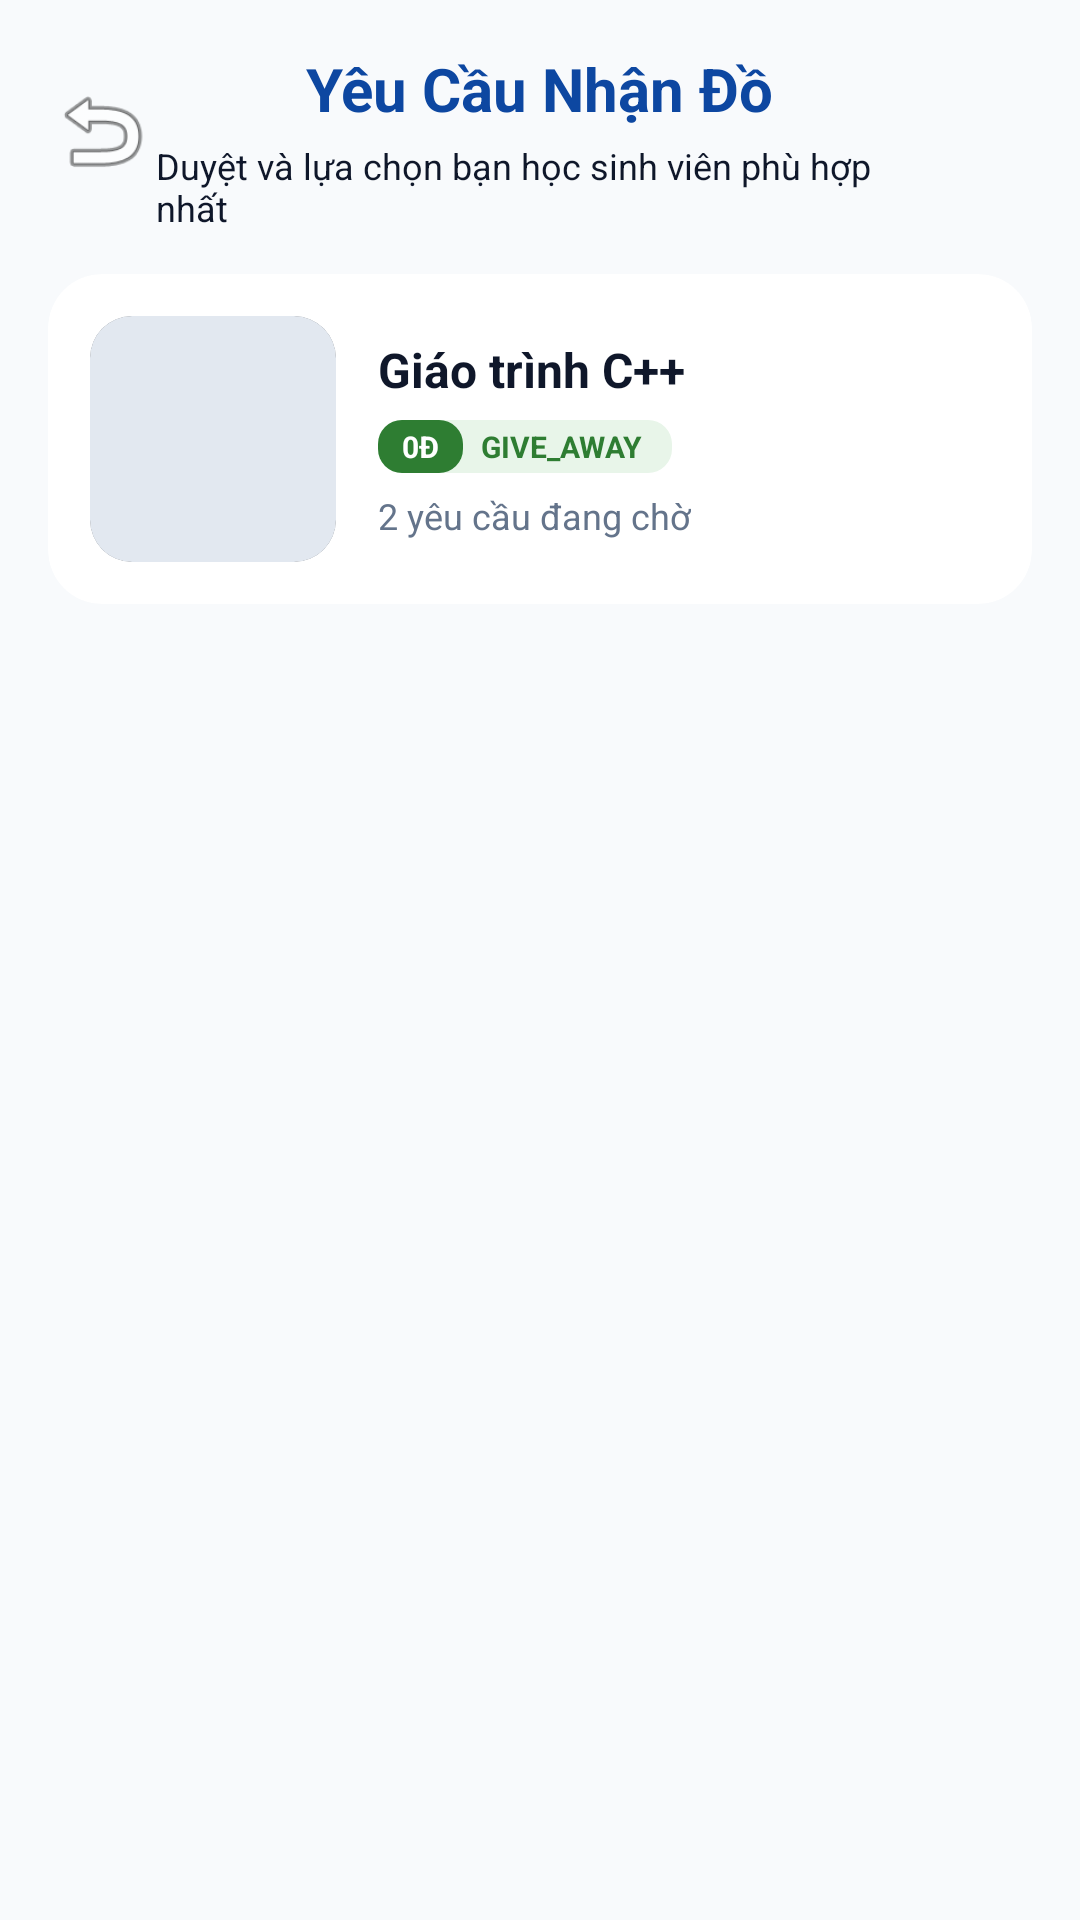

Point at icon controls on the screen. Image size 1080*1920, points as (x=x, y=y).
Quay lại: (x=103, y=132)
